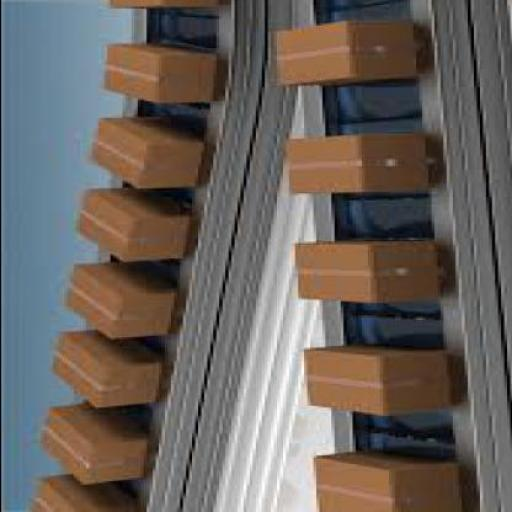cardboard: (300, 346, 454, 416), (266, 22, 422, 88), (291, 238, 436, 306), (46, 330, 164, 411), (30, 408, 146, 488), (85, 116, 203, 192), (60, 266, 178, 342), (73, 190, 194, 264), (310, 453, 462, 511), (282, 136, 429, 195), (98, 44, 216, 108), (25, 474, 134, 511), (103, 2, 215, 10)
